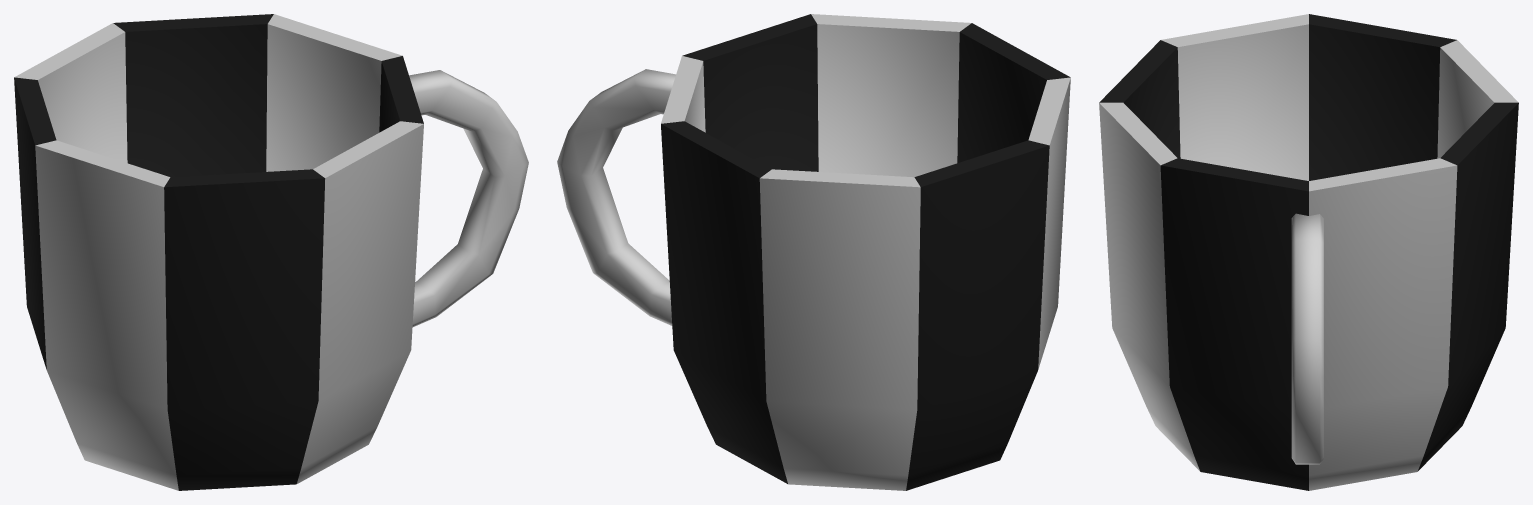
The model's file is Coffee_Cup_04.FBX.
3 renders of one model, left to right at view 1: azimuth 30°, elevation 25°; view 2: azimuth 150°, elevation 25°; view 3: azimuth 270°, elevation 25°, orthographic.
Parts seen in each view (by area): view 1: Coffee Cup; view 2: Coffee Cup; view 3: Coffee Cup.
Part boxes in pixels (bbox=[...]): Coffee Cup: bbox=[14, 14, 528, 490]; Coffee Cup: bbox=[557, 14, 1070, 490]; Coffee Cup: bbox=[1099, 14, 1518, 490].
Bounding box in the file's own units: 44.01 × 28.24 × 33.22.
